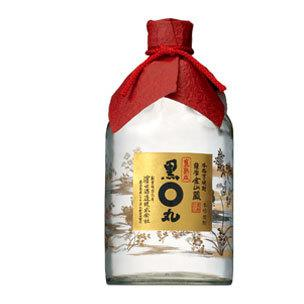soju: (103, 16, 240, 287)
